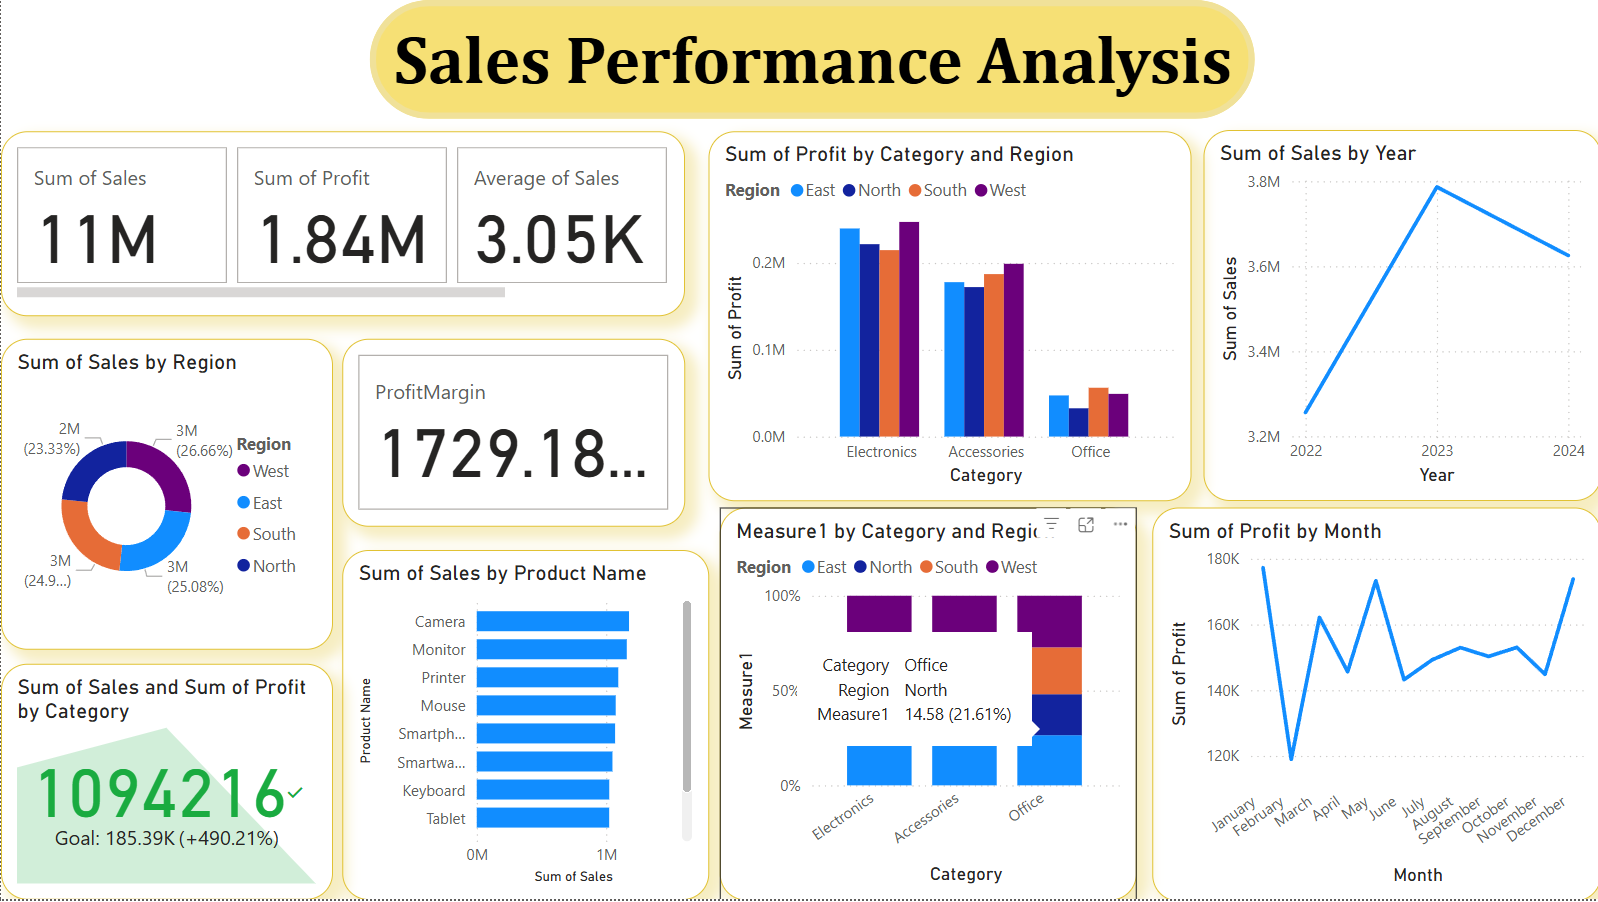

Layout of this report page (visuals, bound fields, positions):
{"tool":"powerbi","page":{"name":"Page 1","canvas":[1280,720],"ordinal":0},"visuals":[{"type":"lineChart","fields":{"Category":["Sales_Performance.Order Date.Variation.Date Hierarchy.Year","Sales_Performance.Order Date.Variation.Date Hierarchy.Month"],"Y":["Sum(Sales_Performance.Sales)"]},"box":[961.9,104.3,318.4,296.4],"z":0},{"type":"donutChart","fields":{"Category":["Sales_Performance.Region"],"Y":["Sum(Sales_Performance.Sales)"]},"box":[0,270.9,265.1,248.8],"z":1000},{"type":"clusteredBarChart","fields":{"Y":["Sum(Sales_Performance.Sales)"],"Category":["Sales_Performance.Product Name"]},"box":[273.3,439.5,293,280.2],"z":2000},{"type":"kpi","fields":{"Indicator":["Sum(Sales_Performance.Sales)"],"Goal":["Sum(Sales_Performance.Profit)"],"TrendLine":["Sales_Performance.Category"]},"box":[0,531,264.8,189.4],"z":3000},{"type":"clusteredColumnChart","fields":{"Category":["Sales_Performance.Category"],"Series":["Sales_Performance.Region"],"Y":["Sum(Sales_Performance.Profit)"]},"box":[566.3,104.7,386,296.5],"z":4000},{"type":"lineChart","fields":{"Category":["Sales_Performance.Order Date.Variation.Date Hierarchy.Month"],"Y":["Sum(Sales_Performance.Profit)"]},"box":[920.9,405.8,359.3,315.1],"z":4001},{"type":"cardVisual","fields":{"Data":["Sum(Sales_Performance.Sales)","Sum(Sales_Performance.Profit)","Avg(Sales_Performance.Sales)","Sum(Sales_Performance.Quantity)"]},"box":[0,104.7,546.5,148.8],"z":4002},{"type":"hundredPercentStackedColumnChart","fields":{"Series":["Sales_Performance.Region"],"Category":["Sales_Performance.Category"],"Y":["Sales_Performance.Measure1"]},"box":[575,406.2,333.4,314.2],"z":4003},{"type":"shape","box":[295,0,708.1,94.7],"z":4004},{"type":"cardVisual","fields":{"Data":["Sales_Performance.ProfitMargin"]},"box":[273.3,270.9,273.3,150],"z":4005}]}

Visuals, with their boxes in screenshot pixels (x1, y1, x2, y2), scaled from the page's 1280x720 canvas onto the 1598x902 screenshot:
lineChart - Sales_Performance.Order Date.Variation.Date Hierarchy.Year x Sales_Performance.Order Date.Variation.Date Hierarchy.Month: locate(1201, 131, 1597, 502)
donutChart - Sales_Performance.Region x Sum(Sales_Performance.Sales): locate(0, 339, 331, 651)
clusteredBarChart - Sum(Sales_Performance.Sales) x Sales_Performance.Product Name: locate(341, 551, 707, 901)
kpi - Sum(Sales_Performance.Sales) x Sum(Sales_Performance.Profit): locate(0, 665, 331, 901)
clusteredColumnChart - Sales_Performance.Category x Sales_Performance.Region: locate(707, 131, 1189, 503)
lineChart - Sales_Performance.Order Date.Variation.Date Hierarchy.Month x Sum(Sales_Performance.Profit): locate(1150, 508, 1597, 901)
cardVisual - Sum(Sales_Performance.Sales) x Sum(Sales_Performance.Profit): locate(0, 131, 682, 318)
hundredPercentStackedColumnChart - Sales_Performance.Region x Sales_Performance.Category: locate(718, 509, 1134, 901)
shape: locate(368, 0, 1252, 119)
cardVisual - Sales_Performance.ProfitMargin: locate(341, 339, 682, 527)
